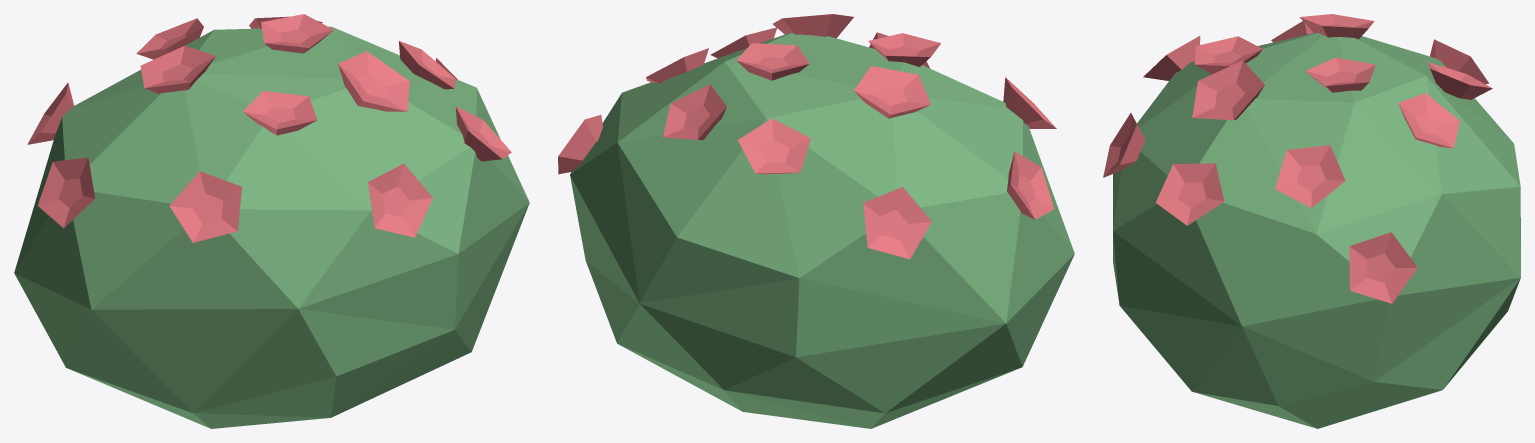
The model's file is shrub-flowers.glb.
3 renders of one model, left to right at view 1: azimuth 30°, elevation 25°; view 2: azimuth 150°, elevation 25°; view 3: azimuth 270°, elevation 25°, orthographic. The views are drawn at different scales.
Parts seen in each view (by area): view 1: shrub_flowers; view 2: shrub_flowers; view 3: shrub_flowers.
Part boxes in pixels (box(x1,y1,x2,y2)): shrub_flowers: box(14, 14, 529, 428); shrub_flowers: box(558, 14, 1074, 428); shrub_flowers: box(1103, 14, 1520, 428).
Bounding box in the file's own units: 126 × 93.12 × 105.
